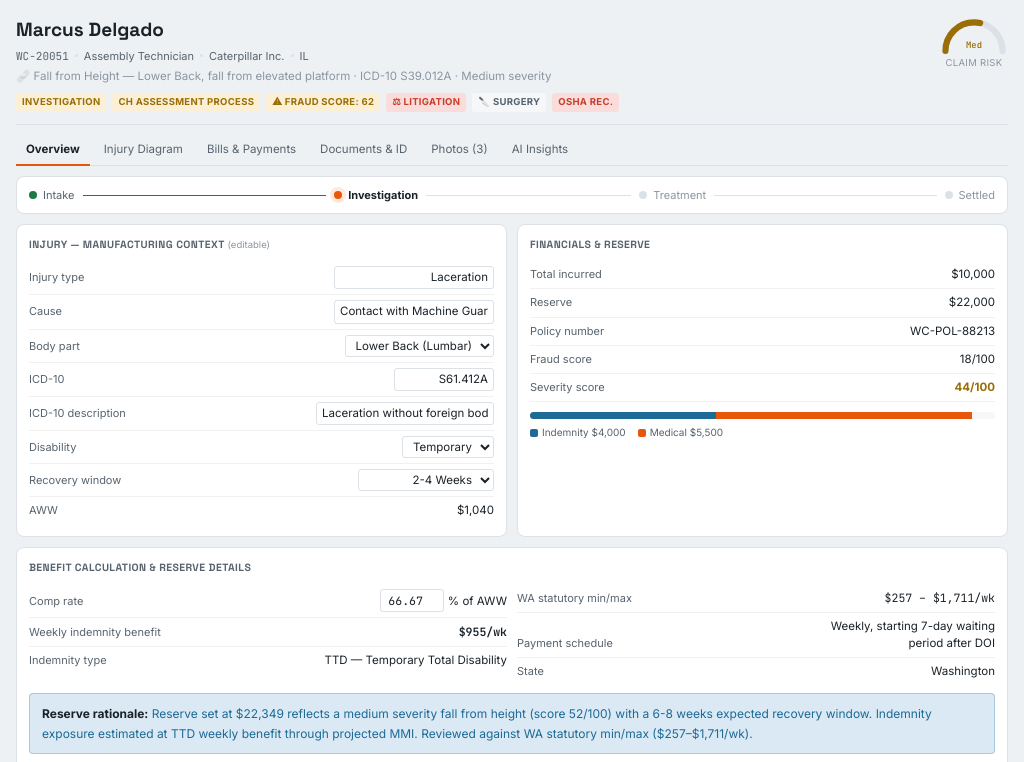
Scenario: a 409 whose body is not a case file is not written into the cache
Step 1. Replace the text in the field with test id "edit-cause" with "Loser" → (414, 312), box [334,300,494,324]
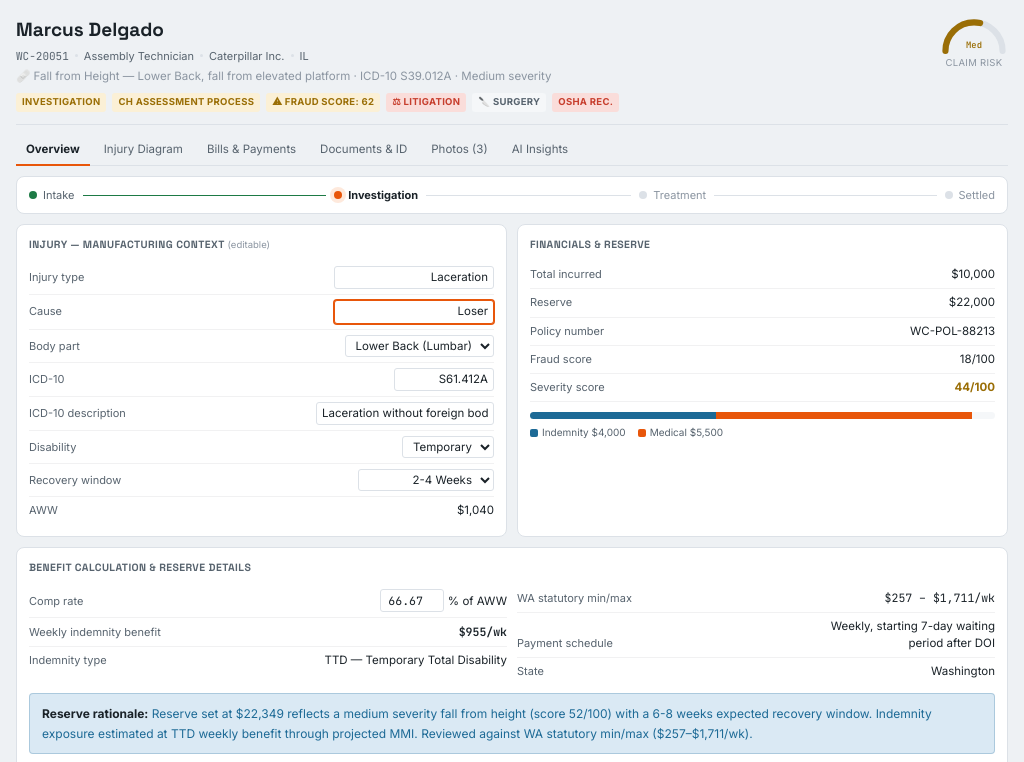
Step 2. Press Tab
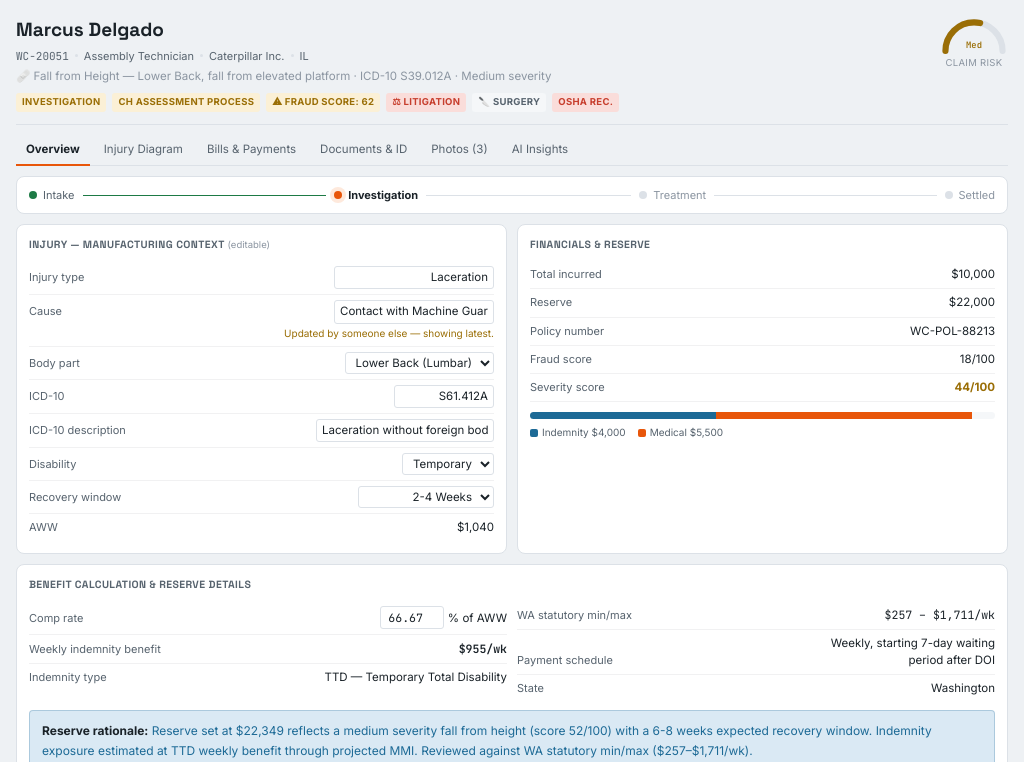
Expected: the element with test id "investigation-injury" is shown, [16,224,507,554]
Now the message "Updated by someone else — showing latest." is shown, box [284,326,494,340]
Now the field with test id "edit-cause" holds "Contact with Machine Guard", box [334,300,494,324]
